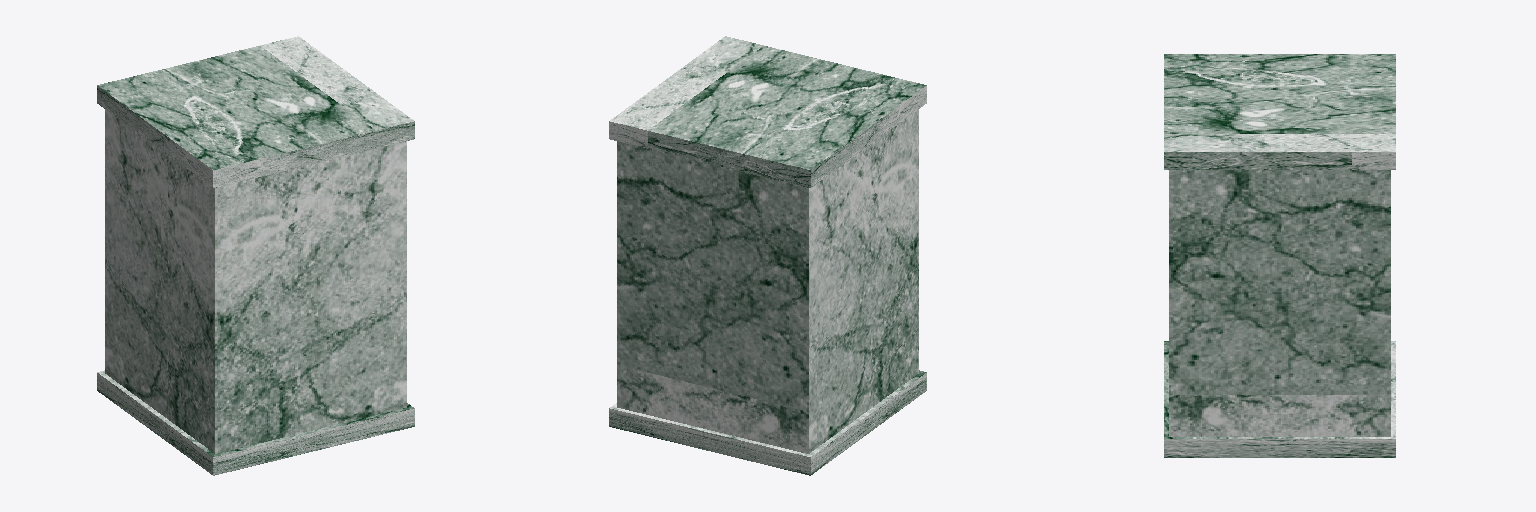
3 views of the same model, side by side, from view 1: azimuth 30°, elevation 25°; view 2: azimuth 150°, elevation 25°; view 3: azimuth 270°, elevation 25° (orthographic).
Visible parts, largest first — view 1: Mostrador2; view 2: Mostrador2; view 3: Mostrador2.
Part boxes in pixels (x1,y1,x2,y2): Mostrador2: (97, 36, 414, 475); Mostrador2: (609, 36, 926, 475); Mostrador2: (1164, 54, 1395, 457).
Bounding box in the file's own units: 0.3116 × 0.4516 × 0.3116.
1 materials, 1 textured.